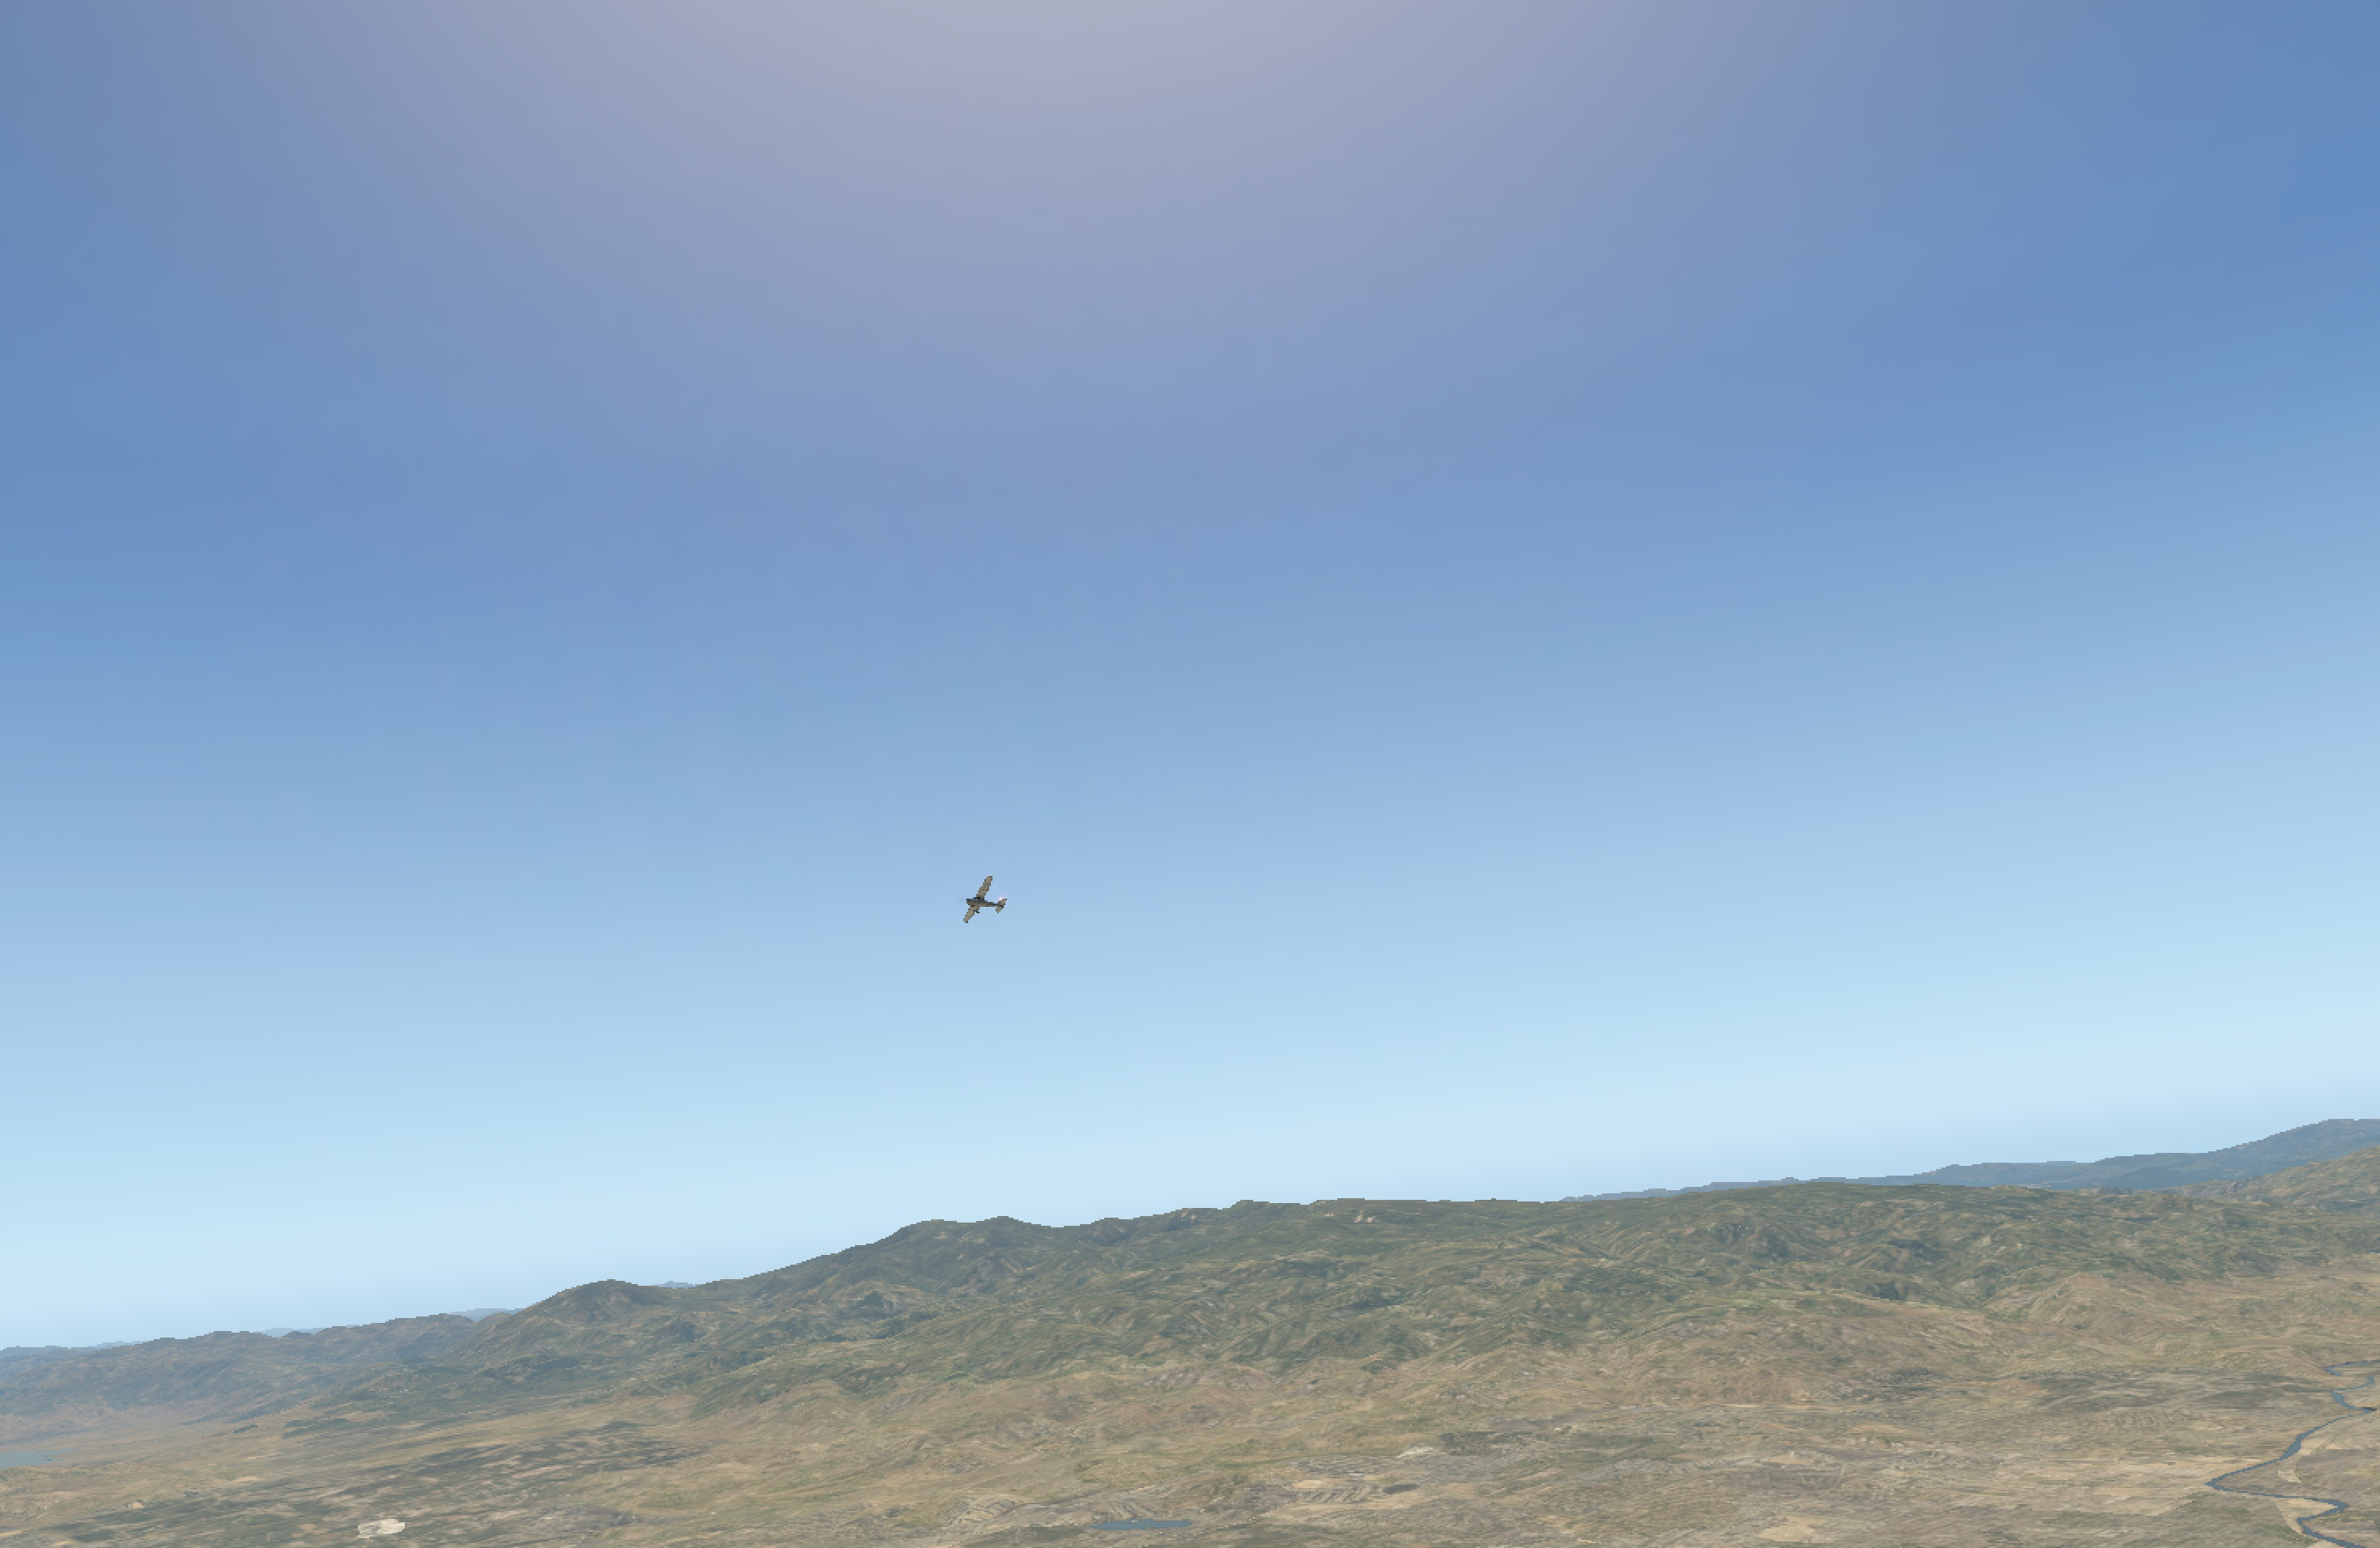aircraft: (954, 894, 999, 909)
